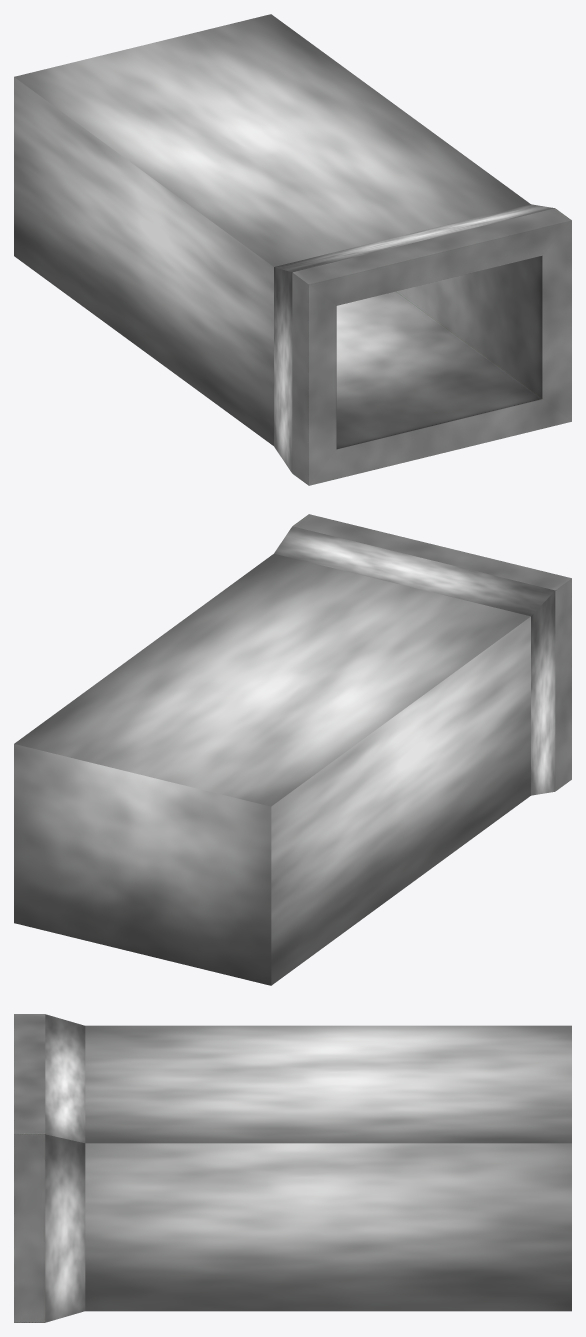
The model's file is panel_vent.glb.
3 views of the same model, one above another, from view 1: azimuth 30°, elevation 25°; view 2: azimuth 150°, elevation 25°; view 3: azimuth 270°, elevation 25° (orthographic). The views are drawn at different scales.
Visible parts, largest first — view 1: mesh; view 2: mesh; view 3: mesh.
Part boxes in pixels (<box>): mesh: <box>14,14,571,485</box>; mesh: <box>14,514,571,985</box>; mesh: <box>14,1014,571,1322</box>.
Bounding box in the file's own units: 1.02 × 0.7479 × 2.01.
Materials: 1 (1 with a texture image).
